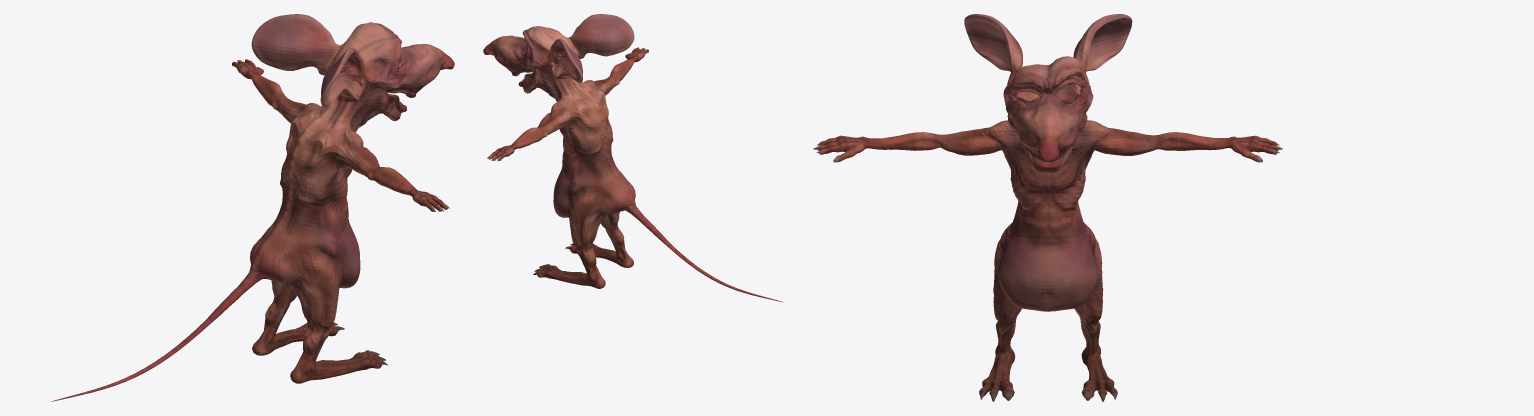
File: Rat.obj
3 renders of one model, left to right at view 1: azimuth 30°, elevation 25°; view 2: azimuth 150°, elevation 25°; view 3: azimuth 270°, elevation 25°, orthographic. The views are drawn at different scales.
Visible parts, largest first — view 1: (null); view 2: (null); view 3: (null).
Boxes of the visible parts, x1,y1,x2,y2 form: (null): (51, 14, 454, 401); (null): (483, 14, 783, 302); (null): (813, 14, 1282, 401).
Size of the model in its own units: 8.89e+08 by 6.87e+08 by 1.18e+09.
